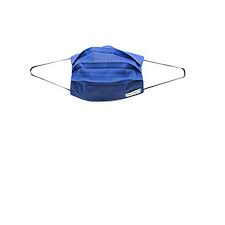flumask: (70, 45, 147, 101)
